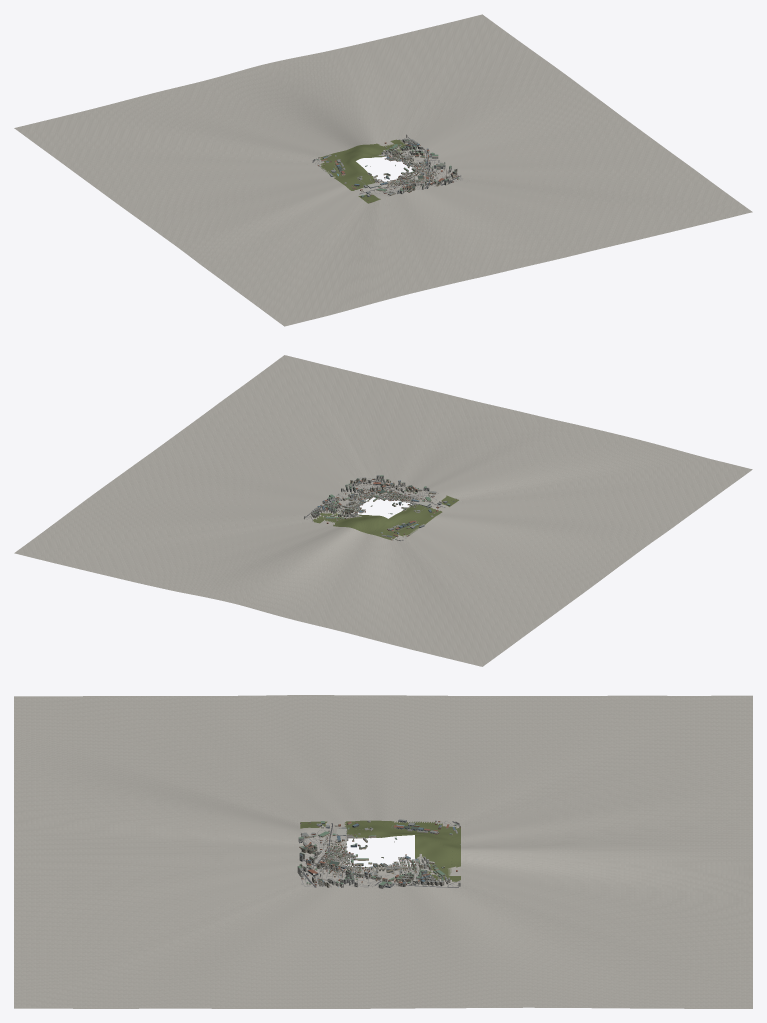
3 renders of one model, top to bottom at view 1: azimuth 30°, elevation 25°; view 2: azimuth 150°, elevation 25°; view 3: azimuth 270°, elevation 25°, orthographic. The views are drawn at different scales.
Parts seen in each view (by area): view 1: ctx-ground, ctx-buildings; view 2: ctx-ground, ctx-buildings; view 3: ctx-ground, ctx-buildings, ctx-streets.
Part boxes in pixels (left/top/right/bottom): ctx-ground: left=14, top=14, right=752, bottom=326; ctx-buildings: left=321, top=134, right=457, bottom=197; ctx-ground: left=14, top=355, right=752, bottom=666; ctx-buildings: left=304, top=475, right=450, bottom=537; ctx-ground: left=14, top=695, right=752, bottom=1008; ctx-buildings: left=297, top=819, right=460, bottom=888; ctx-streets: left=300, top=821, right=460, bottom=887.
Size of the model in its own units: 8000 by 103 by 8000.
Materials: 26 (20 with a texture image).
